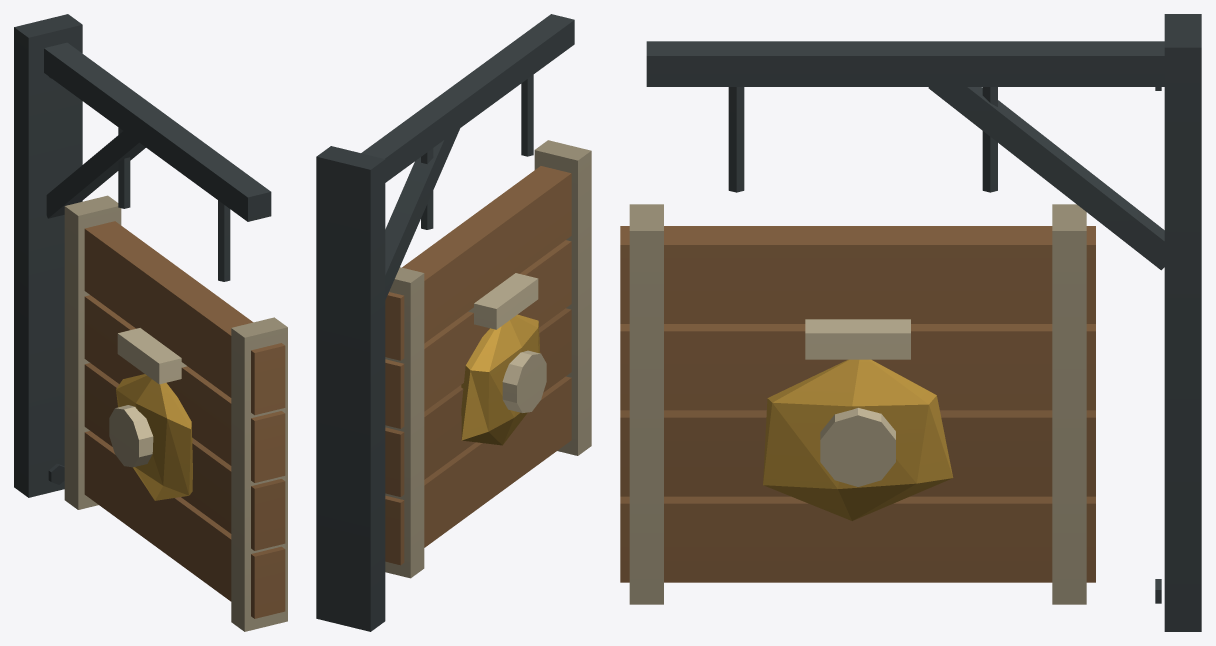
Rendered from town_sign_shop.glb.
The picture shows the model from 3 angles, left to right: view 1: azimuth 30°, elevation 25°; view 2: azimuth 150°, elevation 25°; view 3: azimuth 270°, elevation 25°; orthographic projection. The views are drawn at different scales.
Visible parts, largest first — view 1: town_sign_shop; view 2: town_sign_shop; view 3: town_sign_shop.
Boxes of the visible parts, x1=… form: town_sign_shop: x1=14, y1=14, x2=287, y2=631; town_sign_shop: x1=316, y1=14, x2=591, y2=631; town_sign_shop: x1=620, y1=14, x2=1201, y2=631.
Size of the model in its own units: 0.29 by 1.22 by 1.1.
